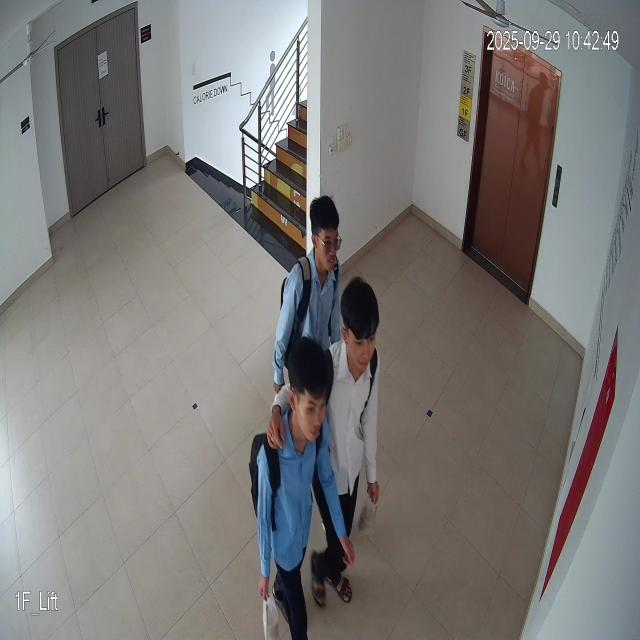face: (290, 332, 335, 457), (339, 280, 382, 386), (310, 192, 344, 280)
